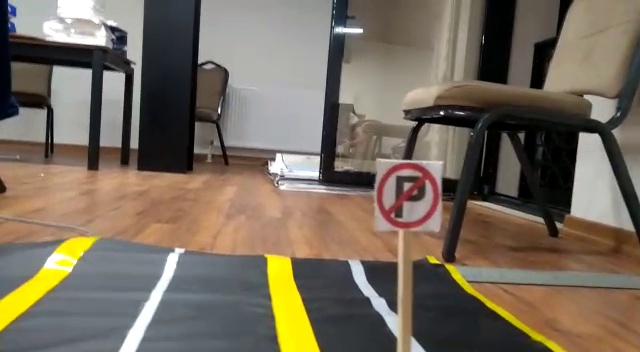park_yapilmaz: (378, 158, 439, 234)
